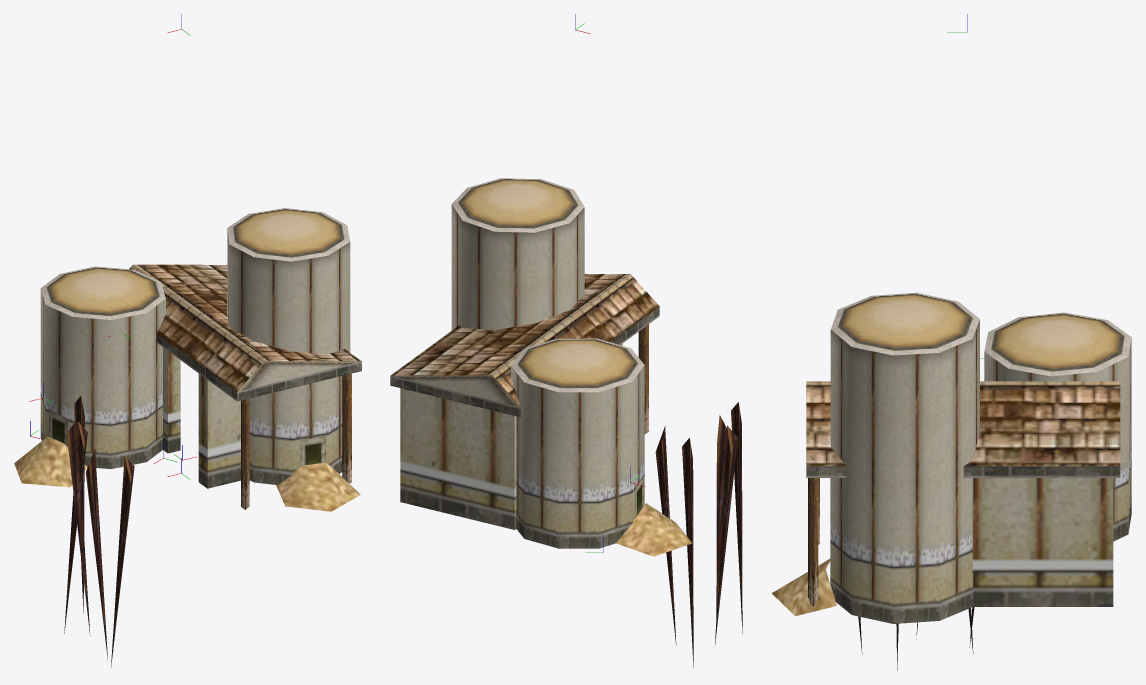
File: greek-granary.glb
3 renders of one model, left to right at view 1: azimuth 30°, elevation 25°; view 2: azimuth 150°, elevation 25°; view 3: azimuth 270°, elevation 25°, orthographic. The views are drawn at different scales.
Parts seen in each view (by area): view 1: building g storehouseage0Model; view 2: building g storehouseage0Model; view 3: building g storehouseage0Model.
Part boxes in pixels (x1,y1,x2,y2): building g storehouseage0Model: (14,208,361,667); building g storehouseage0Model: (390,178,742,667); building g storehouseage0Model: (771,292,1131,670).
Size of the model in its own units: 4.61 by 9.78 by 4.45.
3 materials, 2 textured.
